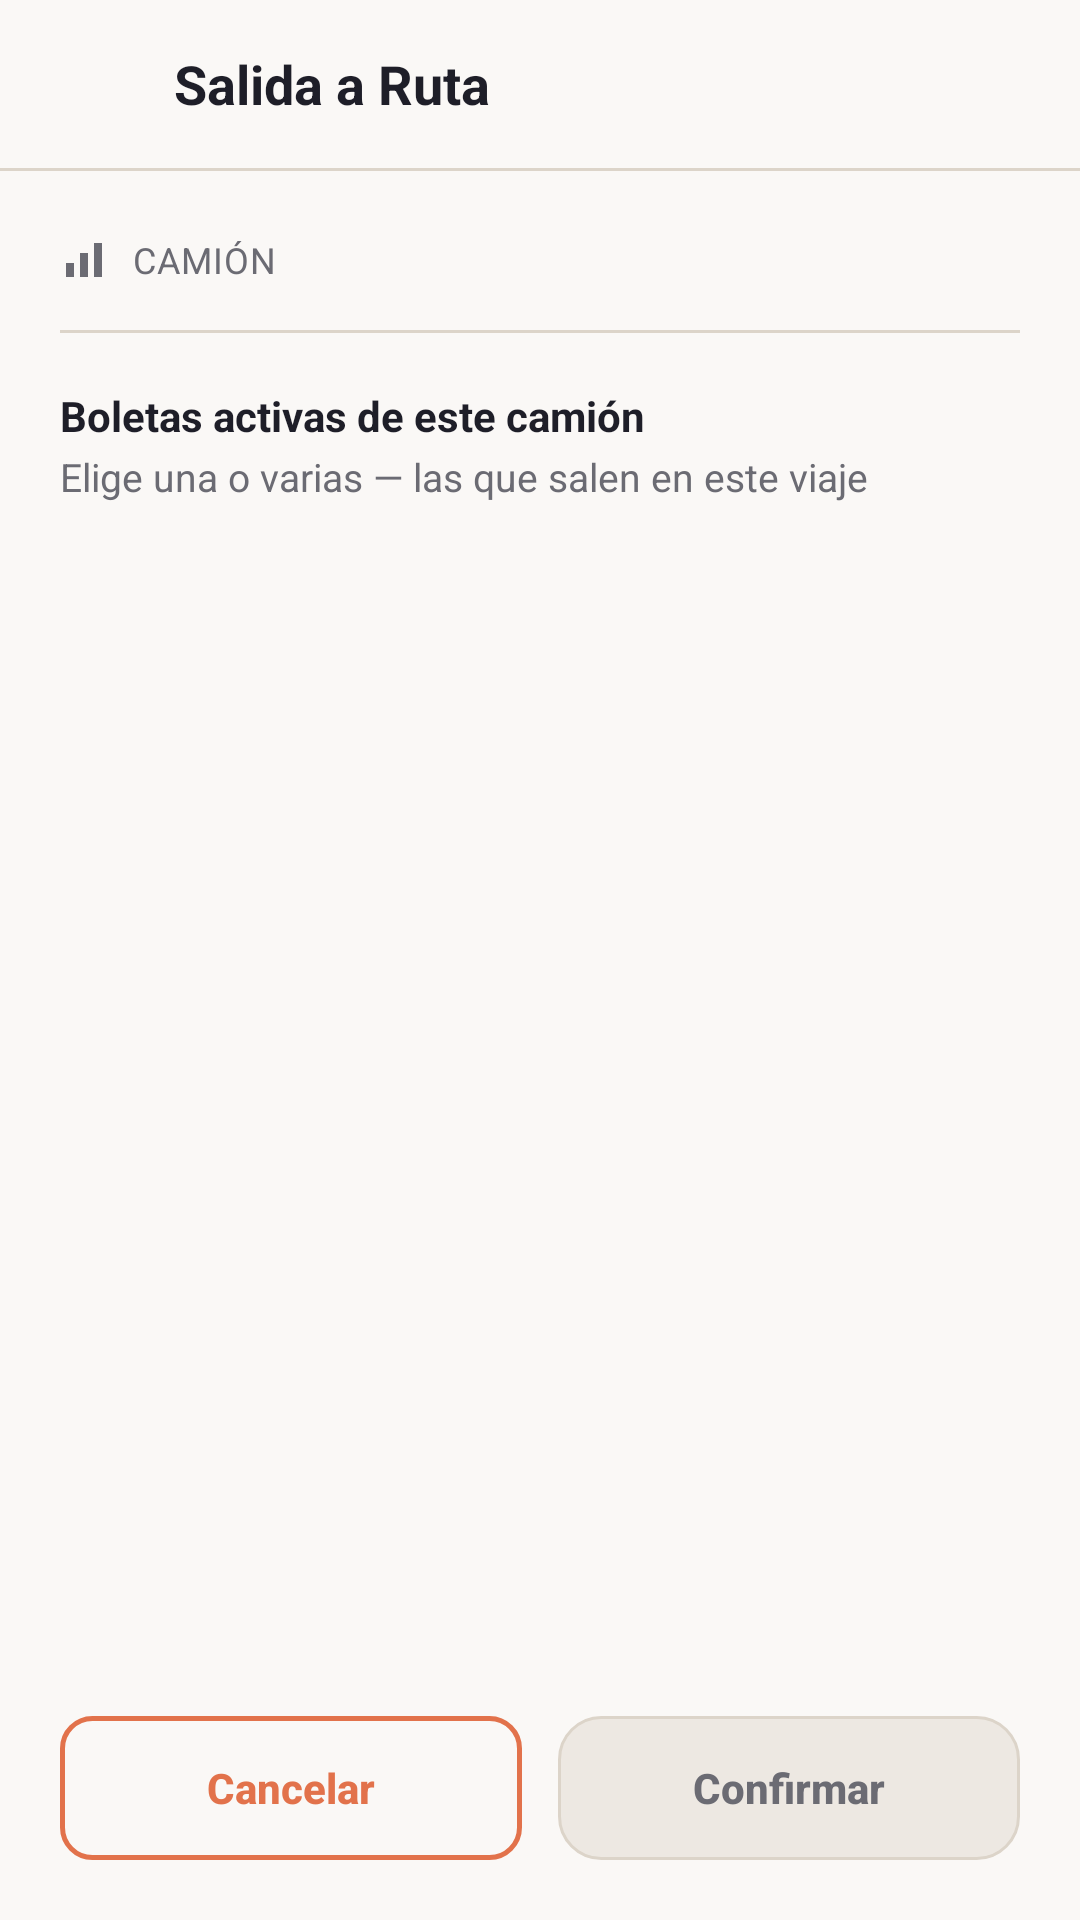

Where to tap for icons on this 1080 × 1920 app screen, as (x=x, y=y):
signal: (x=84, y=260)
